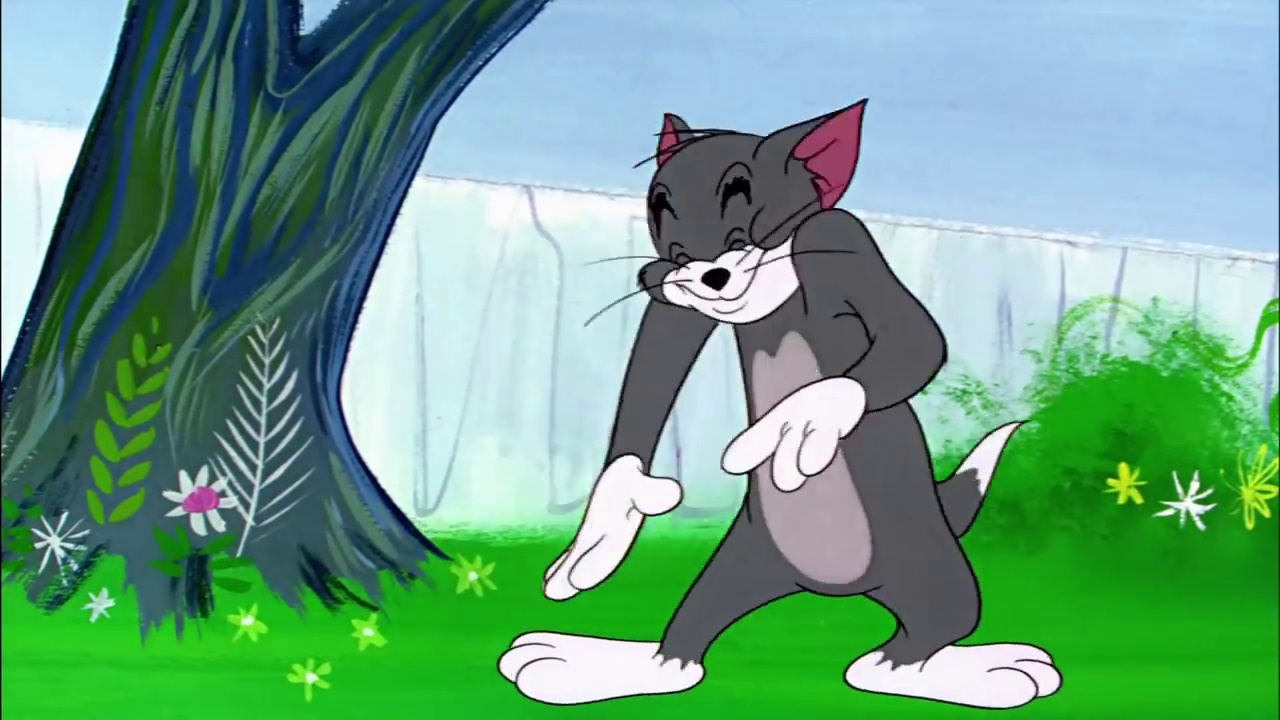tom: (629, 97, 870, 322)
